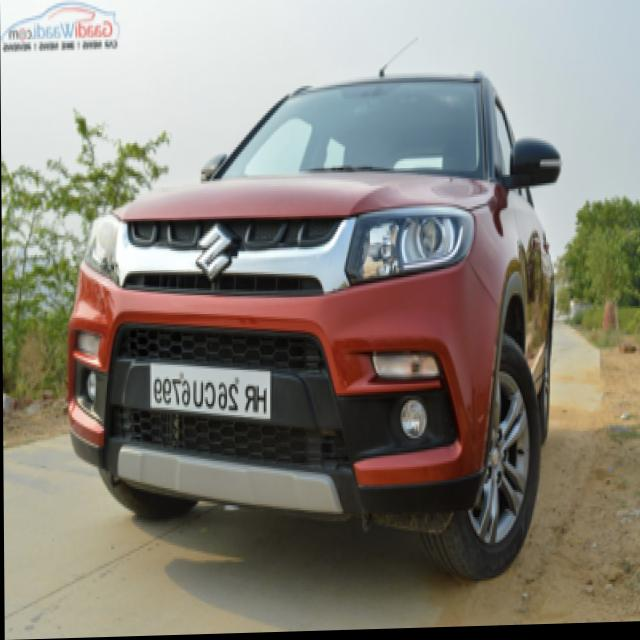licence: (149, 349, 277, 416)
